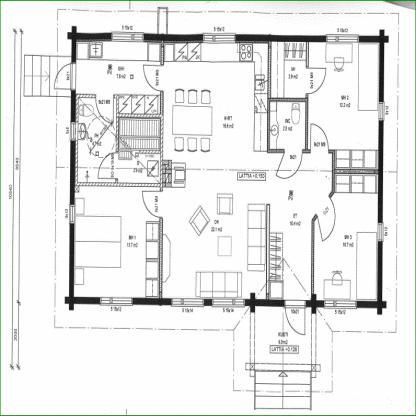bathroom: (72, 94, 162, 187), (270, 40, 306, 154)
door: (316, 196, 340, 244), (49, 60, 80, 96), (282, 298, 309, 338), (274, 151, 306, 180), (140, 62, 166, 96), (140, 188, 166, 221), (307, 121, 330, 154), (306, 67, 328, 97)
perimeter: (74, 35, 382, 304)
window: (201, 29, 238, 48), (325, 31, 361, 50), (111, 29, 148, 46), (170, 295, 206, 310), (210, 293, 246, 308), (98, 294, 136, 308), (321, 298, 358, 312), (66, 203, 78, 228), (376, 100, 386, 125), (68, 121, 78, 146), (375, 222, 384, 247)
